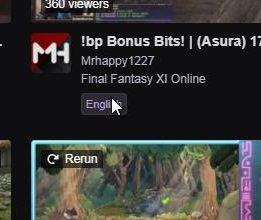cursor: (106, 94, 127, 120)
